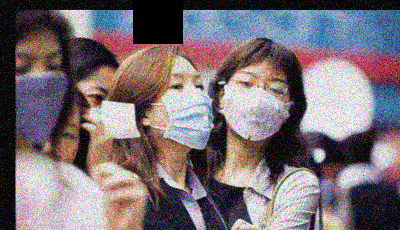with_mask: (16, 48, 69, 146), (224, 68, 291, 143), (149, 71, 213, 147)
